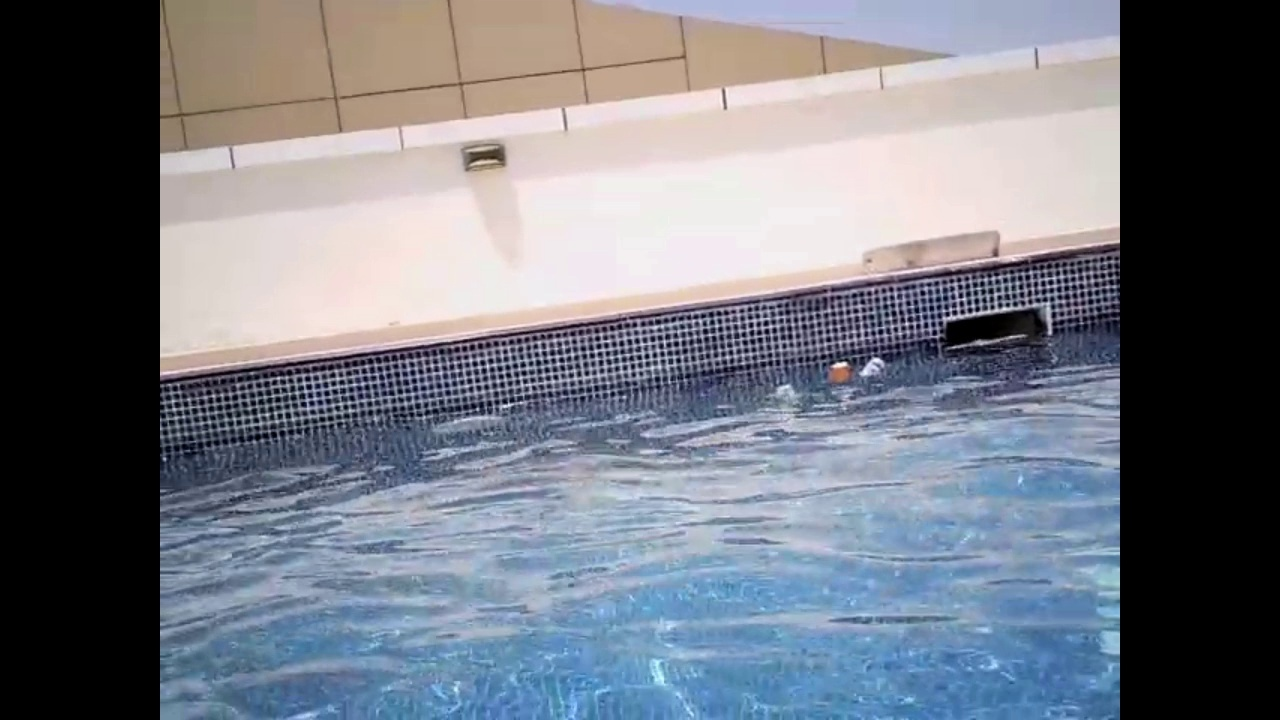debris: (855, 354, 890, 391), (826, 357, 850, 392), (774, 383, 795, 403)
